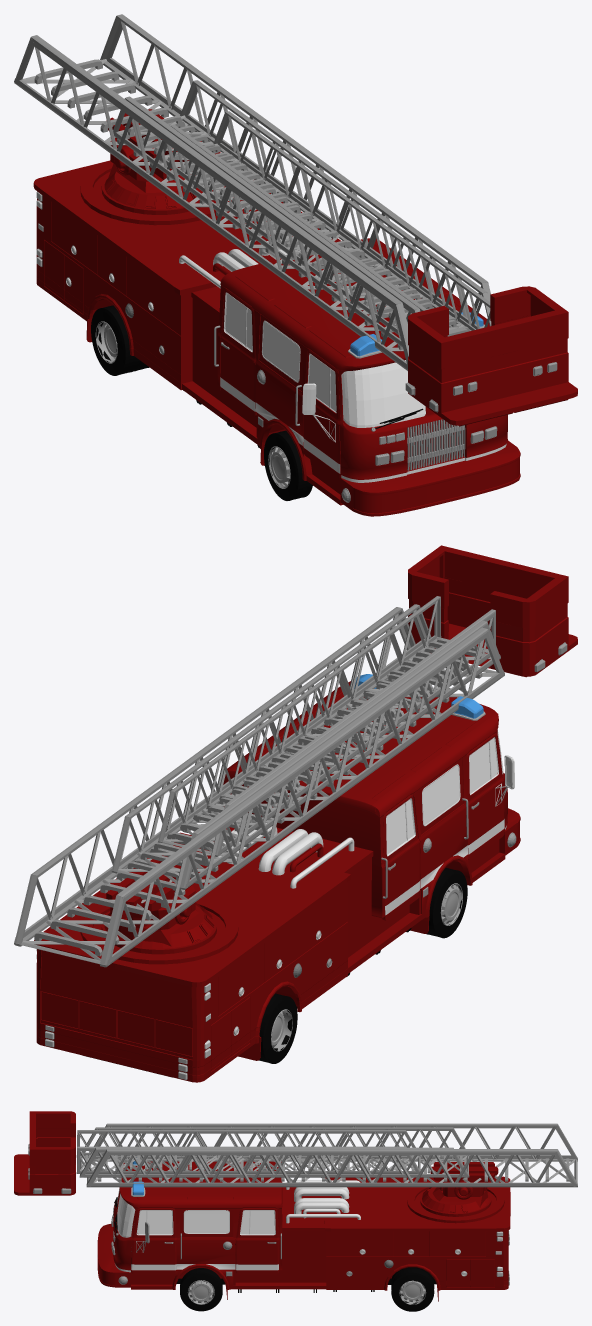
File: Fire_truck.fbx
3 renders of one model, top to bottom at view 1: azimuth 30°, elevation 25°; view 2: azimuth 150°, elevation 25°; view 3: azimuth 270°, elevation 25°, orthographic. The views are drawn at different scales.
Visible parts, largest first — view 1: Ladder_base, Body_front.001, Body_back, platform, Ladder_extension2, Ladder_extension1, Base and platform, Doors and skirting, Something_idk, Glass, Door_right, Tyres (+2 smaller); view 2: Body_back, Ladder_base, Body_front.001, Ladder_extension2, platform, Ladder_extension1, Something_idk, Door_right, Doors and skirting, Base and platform, Tyres, Rimwheel (+3 smaller); view 3: Ladder_base, Body_back, Body_front.001, Ladder_extension2, Ladder_extension1, platform, Something_idk, Base and platform, Doors_left, Doors and skirting, Tyres, Glass (+3 smaller).
Boxes of the visible parts, box(x1,y1,x2,y2) form: Ladder_base: box(14, 14, 490, 370); Body_front.001: box(182, 238, 507, 505); Body_back: box(33, 141, 340, 390); platform: box(405, 286, 577, 426); Ladder_extension2: box(128, 111, 490, 336); Ladder_extension1: box(113, 80, 491, 347); Base and platform: box(179, 235, 520, 516); Doors and skirting: box(86, 288, 465, 470); Something_idk: box(80, 109, 233, 225); Glass: box(225, 293, 425, 427); Door_right: box(302, 349, 341, 479); Tyres: box(91, 305, 312, 500); Body_back: box(34, 832, 350, 1082); Ladder_base: box(14, 607, 504, 967); Body_front.001: box(223, 681, 507, 973); Ladder_extension2: box(127, 596, 495, 880); platform: box(408, 545, 577, 677); Ladder_extension1: box(111, 604, 500, 889); Something_idk: box(80, 859, 238, 964); Door_right: box(466, 733, 514, 859); Doors and skirting: box(238, 794, 468, 1060); Base and platform: box(214, 808, 520, 888); Tyres: box(259, 868, 467, 1063); Rimwheel: box(271, 883, 462, 1051); Ladder_base: box(86, 1123, 577, 1187); Body_back: box(324, 1176, 510, 1290); Body_front.001: box(113, 1161, 326, 1289); Ladder_extension2: box(76, 1130, 462, 1173); Ladder_extension1: box(79, 1127, 469, 1177); platform: box(14, 1111, 75, 1195); Something_idk: box(407, 1162, 504, 1223); Base and platform: box(97, 1180, 360, 1287); Doors_left: box(131, 1208, 176, 1274); Doors and skirting: box(116, 1197, 438, 1301); Tyres: box(180, 1267, 434, 1311); Glass: box(117, 1187, 274, 1237).
Size of the model in its own units: 281 by 318 by 1046.
